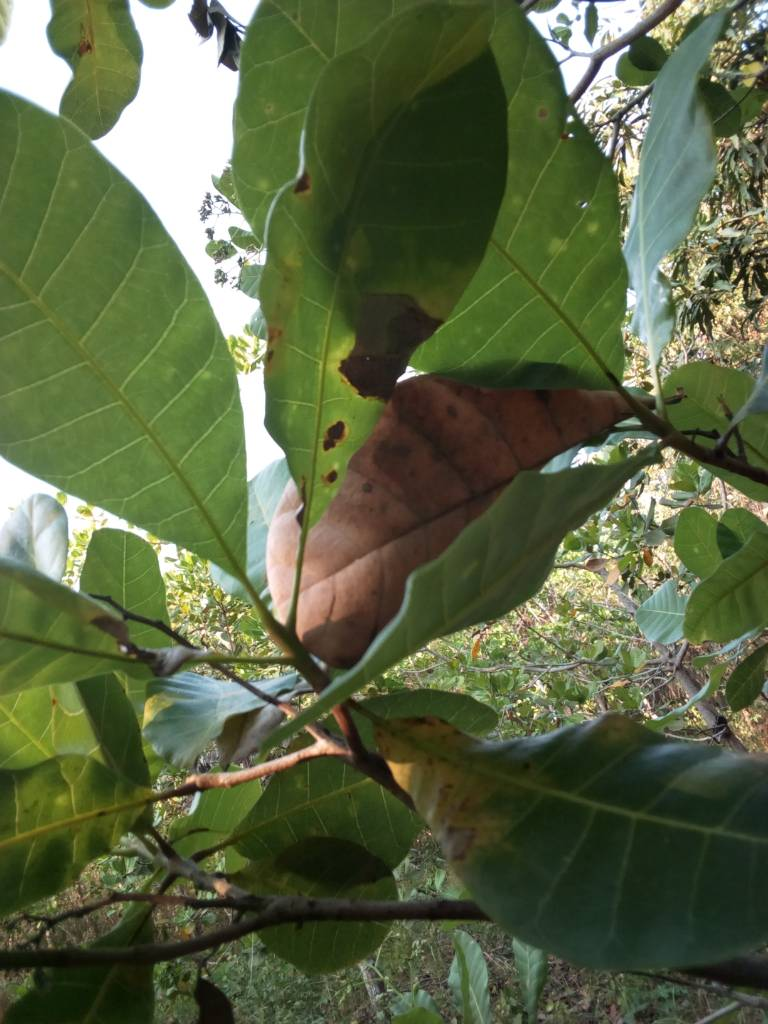Dysdercus wolkerii: (250, 1, 511, 525)
